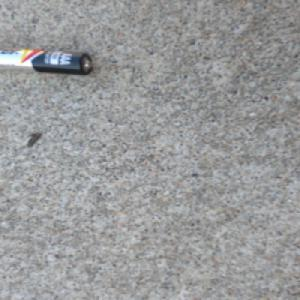Battery: (0, 47, 93, 76)
